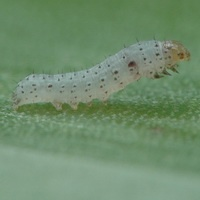insect: (14, 40, 189, 109)
